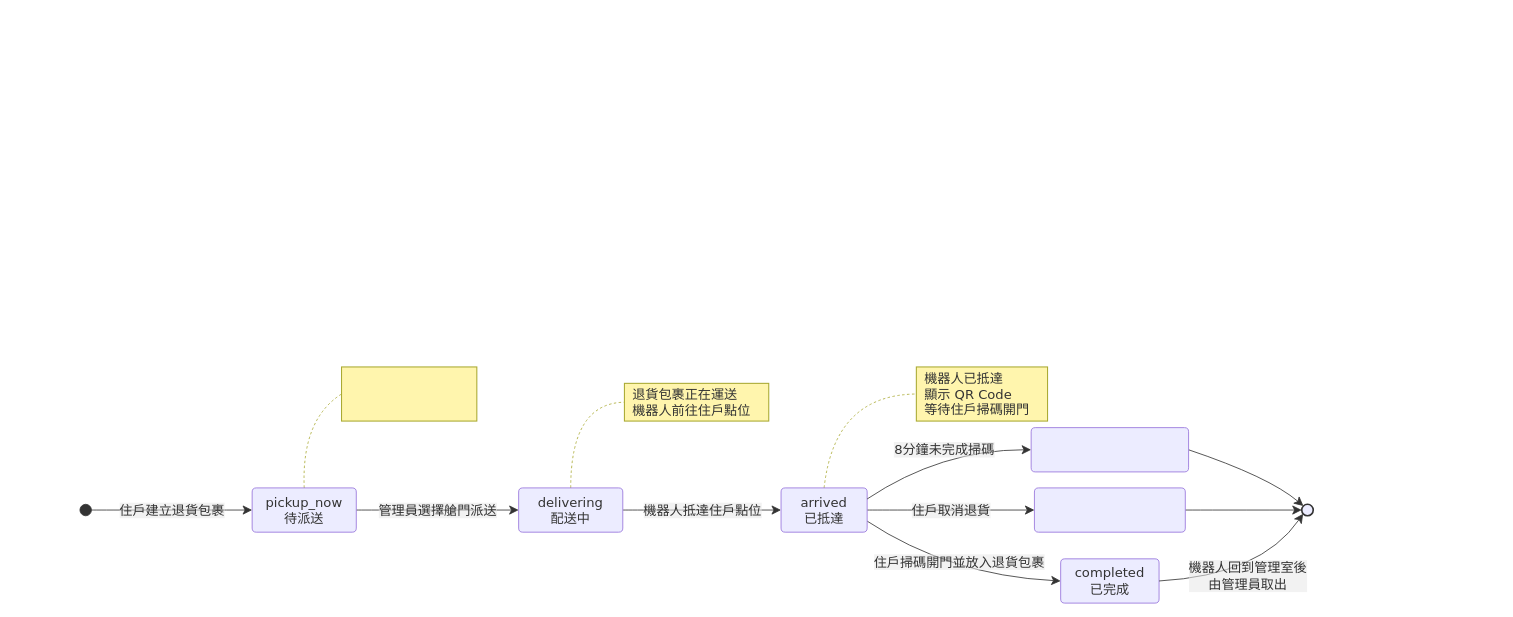
Image size: 1513x617. Some labels were removed from this diagram. Each missing label, with the box of its shape:
rejected_at_door 已取消退貨: (1034, 487, 1185, 532)
returned_timeout 逾時(作廢): (1030, 427, 1189, 472)
task_type = return 以 door_task_id 進行艙門分配: (341, 366, 477, 421)
